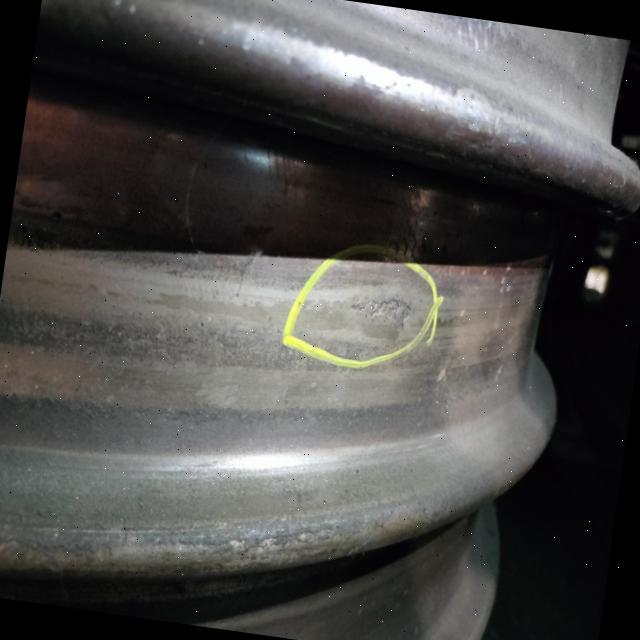Peeling: (340, 280, 421, 343)
